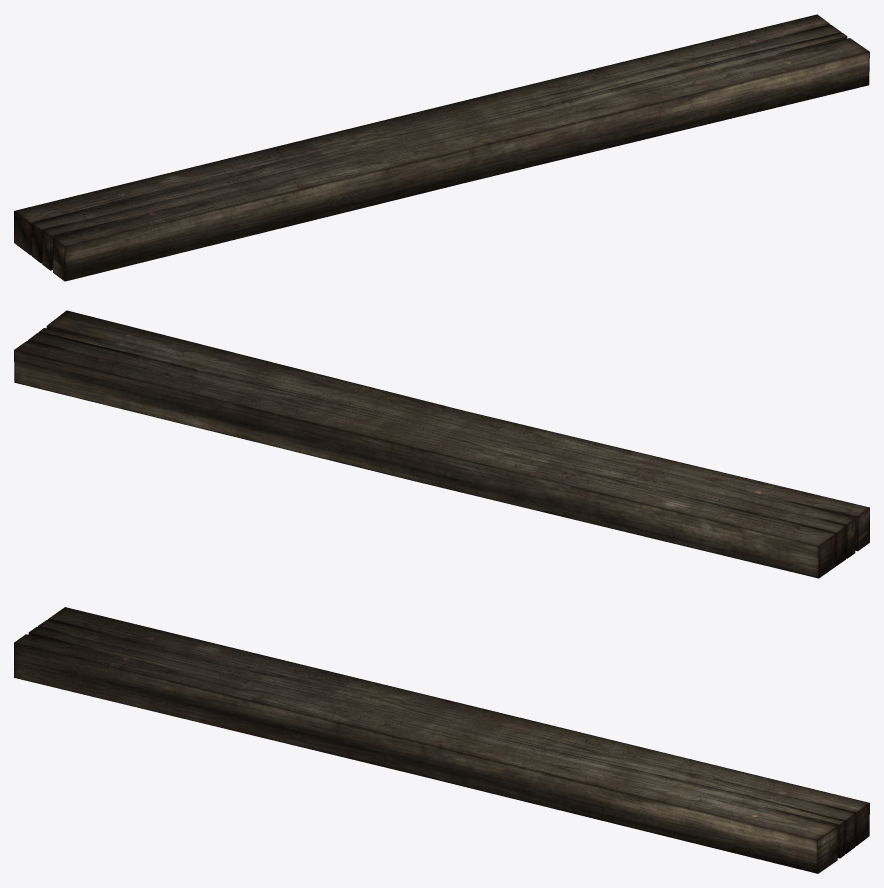
The model's file is plank_3.gltf.
3 views of the same model, one above another, from view 1: azimuth 30°, elevation 25°; view 2: azimuth 150°, elevation 25°; view 3: azimuth 330°, elevation 25° (orthographic).
Visible parts, largest first — view 1: defaultMaterial.001; view 2: defaultMaterial.001; view 3: defaultMaterial.001.
Boxes of the visible parts, <box> form: defaultMaterial.001: <box>14,14,869,281</box>; defaultMaterial.001: <box>14,310,869,578</box>; defaultMaterial.001: <box>14,607,869,873</box>.
Size of the model in its own units: 200 by 8.37 by 22.68.
Materials: 1 (1 with a texture image).
